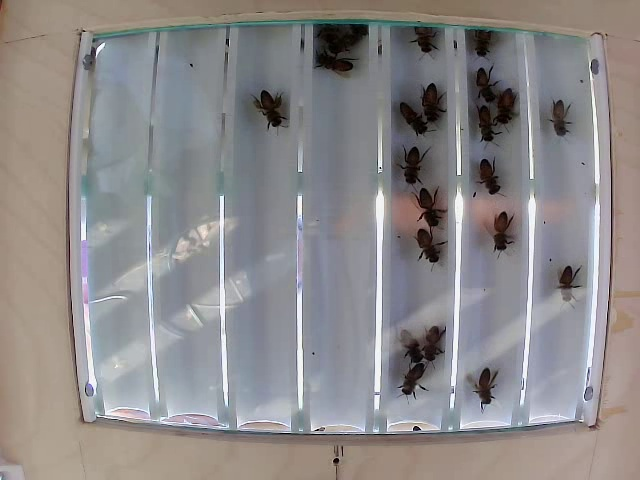bee: (390, 324, 430, 368), (251, 93, 290, 137), (492, 208, 522, 264), (475, 155, 510, 202), (395, 140, 432, 181), (407, 225, 444, 264), (496, 85, 527, 130), (392, 96, 424, 139), (416, 184, 452, 222), (315, 50, 354, 85), (552, 258, 581, 305), (548, 96, 570, 152), (400, 367, 438, 399), (473, 367, 505, 405), (422, 323, 449, 366), (418, 83, 446, 124), (471, 58, 496, 97), (415, 29, 442, 63), (474, 102, 496, 142)
